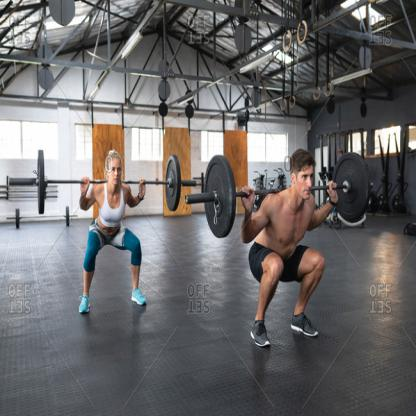Barbell: (200, 151, 238, 244), (160, 153, 184, 216)
